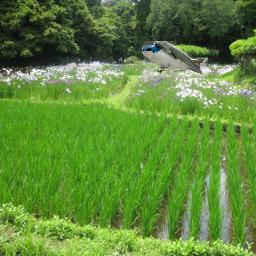Swallow: (142, 41, 208, 77)
